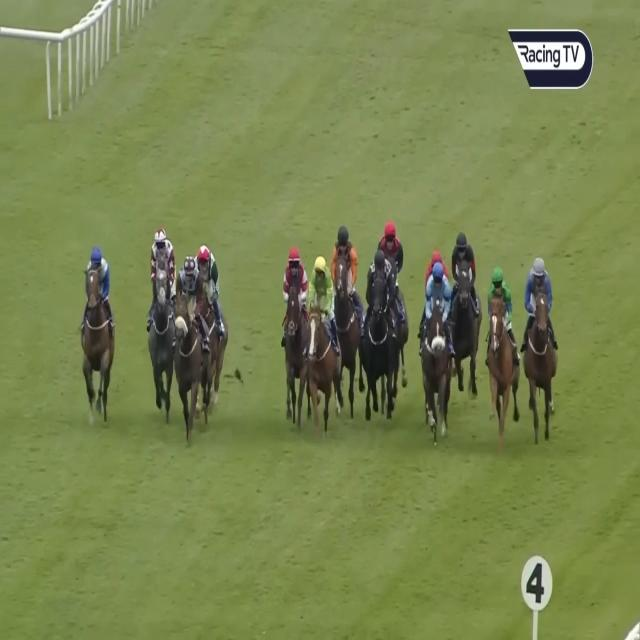horses-racing: (168, 256, 205, 423), (83, 248, 115, 422), (365, 248, 396, 423), (450, 231, 485, 383), (487, 264, 518, 432), (196, 244, 230, 393), (282, 246, 310, 413), (149, 228, 175, 404), (306, 256, 334, 419), (526, 259, 551, 438), (425, 262, 450, 440), (334, 224, 357, 379), (380, 218, 401, 271), (423, 246, 449, 288)
